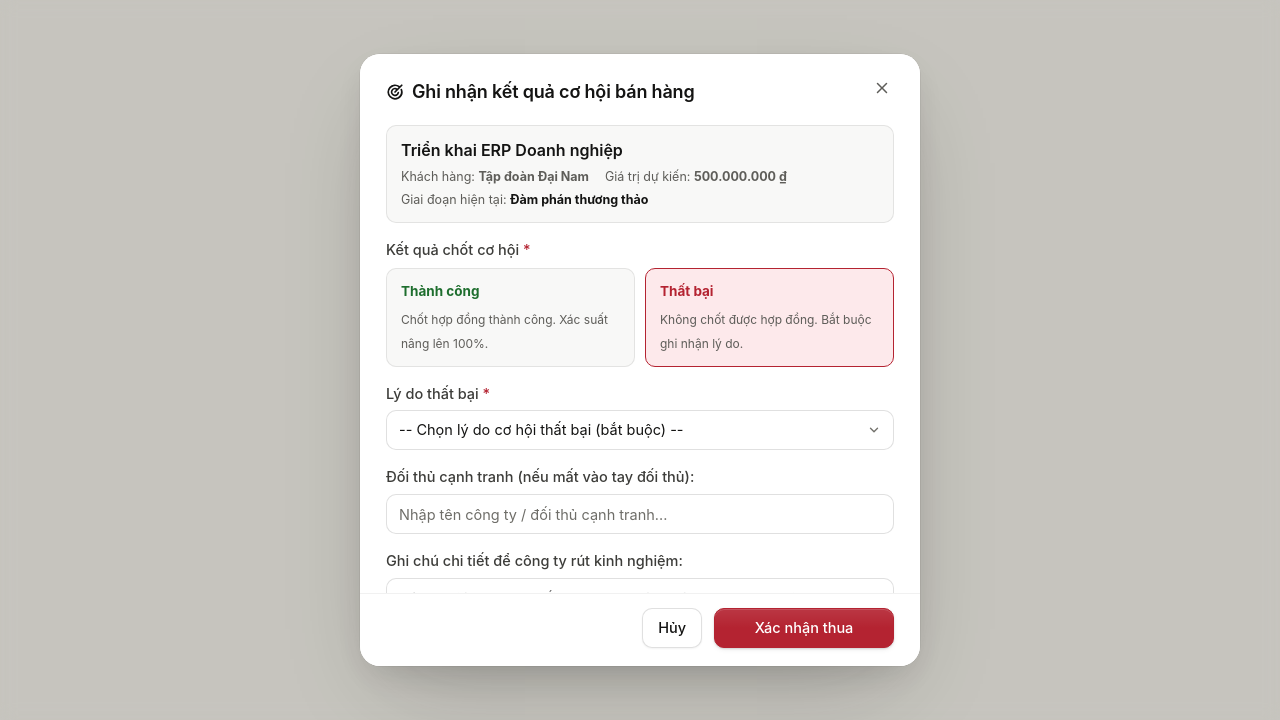
Ghi nhận kết quả thắng thua của cơ hội (NCL-03-CN-005) › Thiếu dữ liệu và ràng buộc (TC-02) › hiển thị lỗi máy chủ khi backend trả INVALID_STATE
Select "Khách hàng bị cắt / hết ngân sách" in the dropdown with test id "select-loss-reason" at (640, 430), box [386,410,894,450]
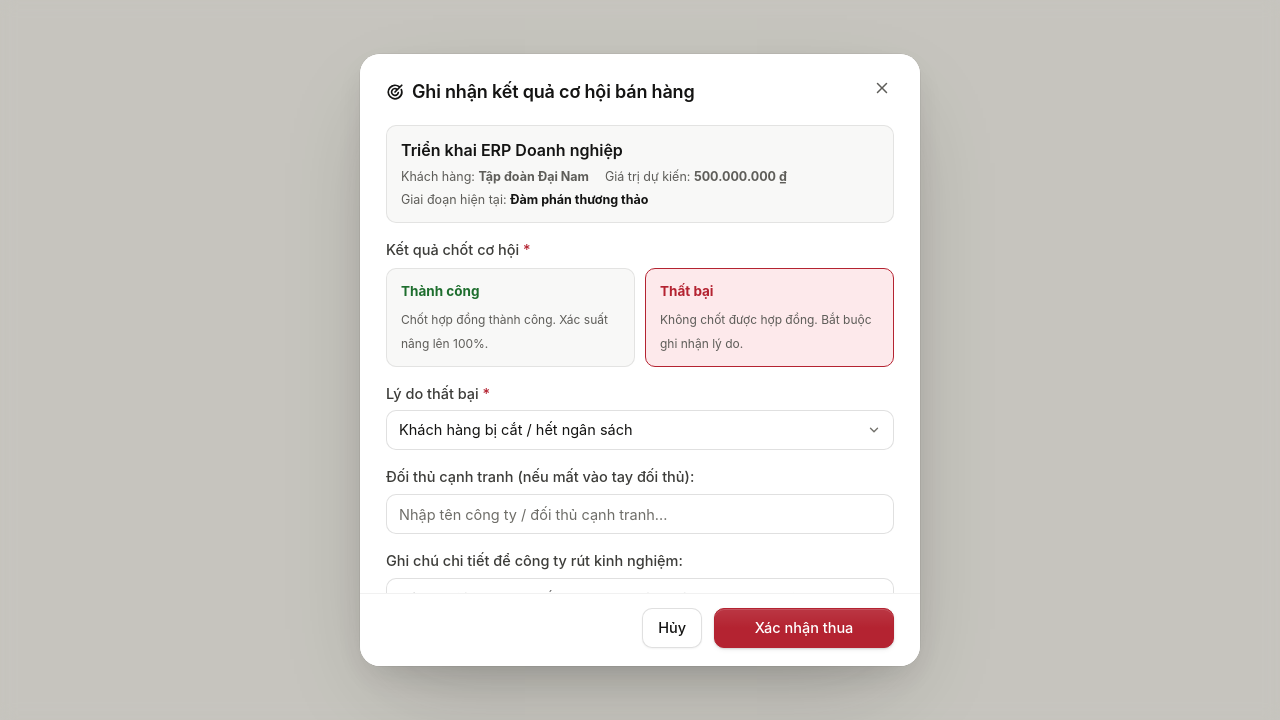
Click the button with test id "btn-submit-close-opportunity".
click(804, 628)  # box [714,608,894,648]
(page scrolled)
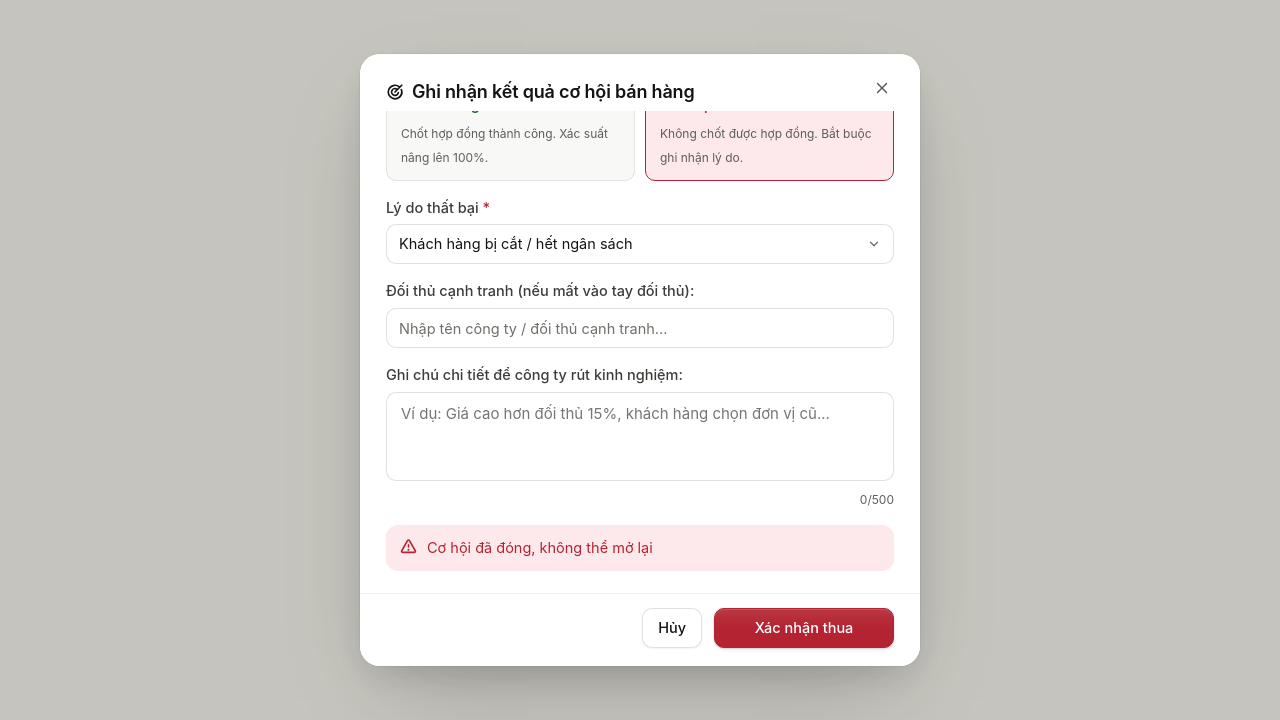
Now the message "Cơ hội đã đóng, không thể mở lại" is shown, box [386,525,894,571]
Now the text "Cơ hội đã đóng, không thể mở lại" is shown, box [427,539,653,556]
